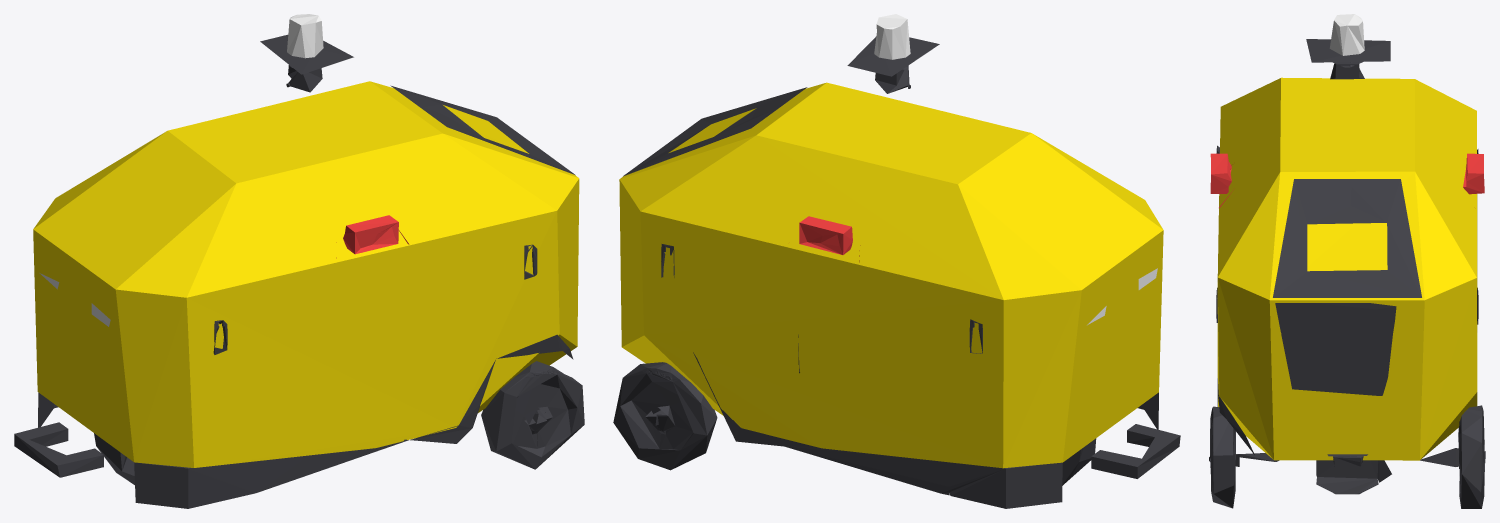
File: sherpa-xt-lite.glb
3 renders of one model, left to right at view 1: azimuth 30°, elevation 25°; view 2: azimuth 150°, elevation 25°; view 3: azimuth 270°, elevation 25°, orthographic. The views are drawn at different scales.
Parts seen in each view (by area): view 1: mat2, mat1, light_status, light_red; view 2: mat2, mat1, light_status, light_red; view 3: mat2, mat1, light_red, light_status.
Part boxes in pixels (<box>): mat2: <box>33,81,579,467</box>; mat1: <box>14,34,584,508</box>; light_status: <box>39,14,323,326</box>; light_red: <box>336,215,409,258</box>; mat2: <box>619,82,1163,468</box>; mat1: <box>613,36,1180,508</box>; light_status: <box>874,14,1157,325</box>; light_red: <box>799,216,860,262</box>; mat2: <box>1217,77,1477,460</box>; mat1: <box>1209,39,1485,508</box>; light_red: <box>1210,153,1484,207</box>; light_status: <box>1329,14,1364,55</box>.
Size of the model in its own units: 1.2 by 0.9915 by 0.6044.
